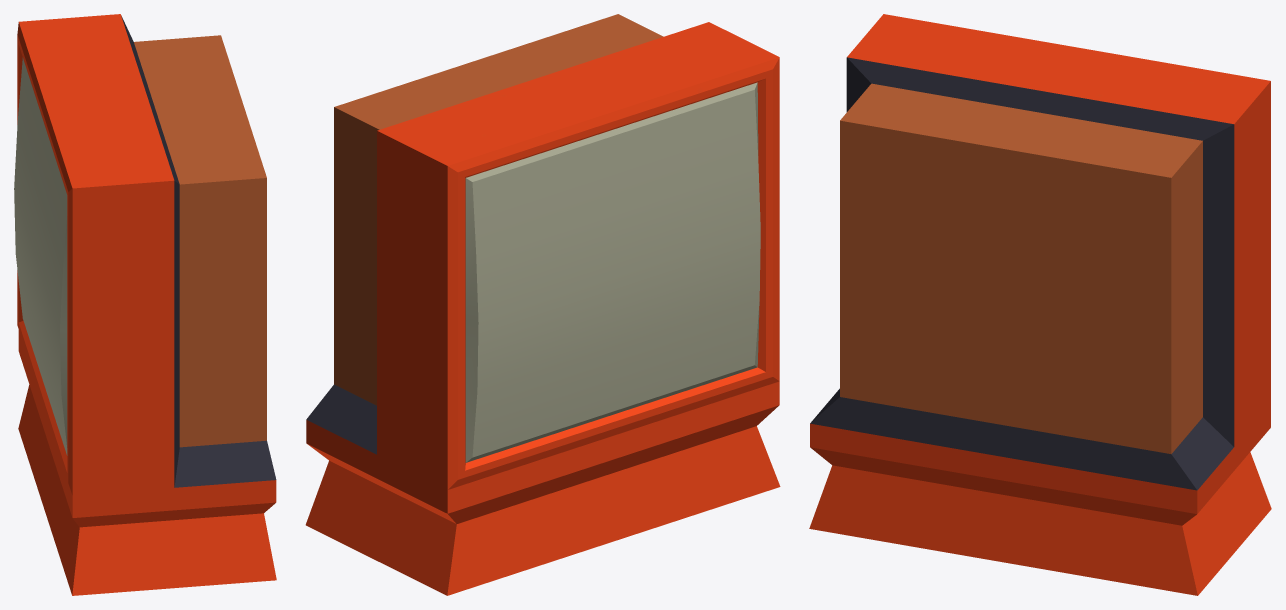
The model's file is TvWithShader.fbx.
3 views of the same model, side by side, from view 1: azimuth 30°, elevation 25°; view 2: azimuth 150°, elevation 25°; view 3: azimuth 270°, elevation 25° (orthographic). The views are drawn at different scales.
Visible parts, largest first — view 1: BigScreen1; view 2: BigScreen1; view 3: BigScreen1.
Boxes of the visible parts, x1,y1,x2,y2 form: BigScreen1: [14, 14, 276, 595]; BigScreen1: [305, 14, 780, 595]; BigScreen1: [809, 14, 1271, 595].
Bounding box in the file's own units: 1.94 × 2.52 × 2.46.
